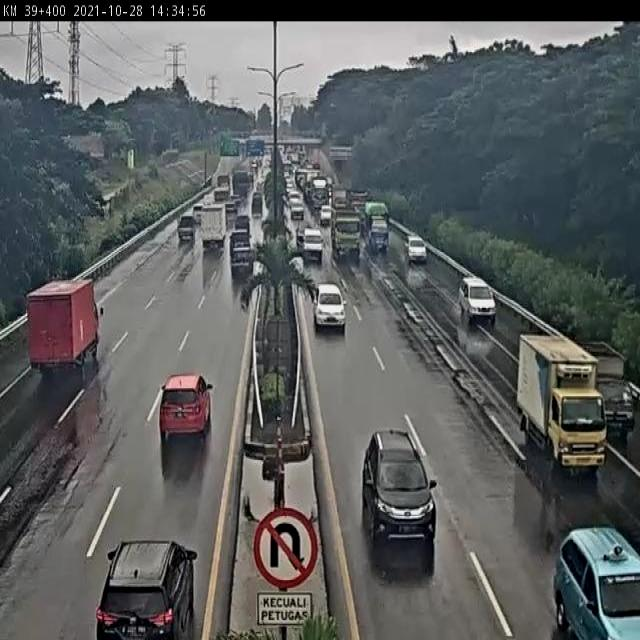Car: (94, 538, 197, 638), (553, 526, 639, 638), (360, 429, 438, 548), (158, 372, 212, 442), (458, 276, 496, 327), (313, 281, 346, 332), (229, 244, 254, 281), (229, 230, 253, 254), (406, 236, 427, 263), (295, 221, 310, 245), (191, 202, 206, 224), (234, 215, 252, 233), (289, 201, 306, 220), (320, 204, 332, 226), (286, 190, 302, 202), (225, 201, 237, 214), (228, 194, 240, 205)
Truck: (512, 331, 608, 478), (24, 277, 104, 377), (575, 338, 640, 442), (330, 208, 364, 263), (197, 205, 231, 249), (353, 200, 390, 226), (310, 176, 329, 212), (177, 214, 196, 243), (302, 172, 320, 202), (345, 188, 371, 206), (330, 187, 348, 210), (214, 174, 230, 199)
Van: (302, 229, 325, 260)
